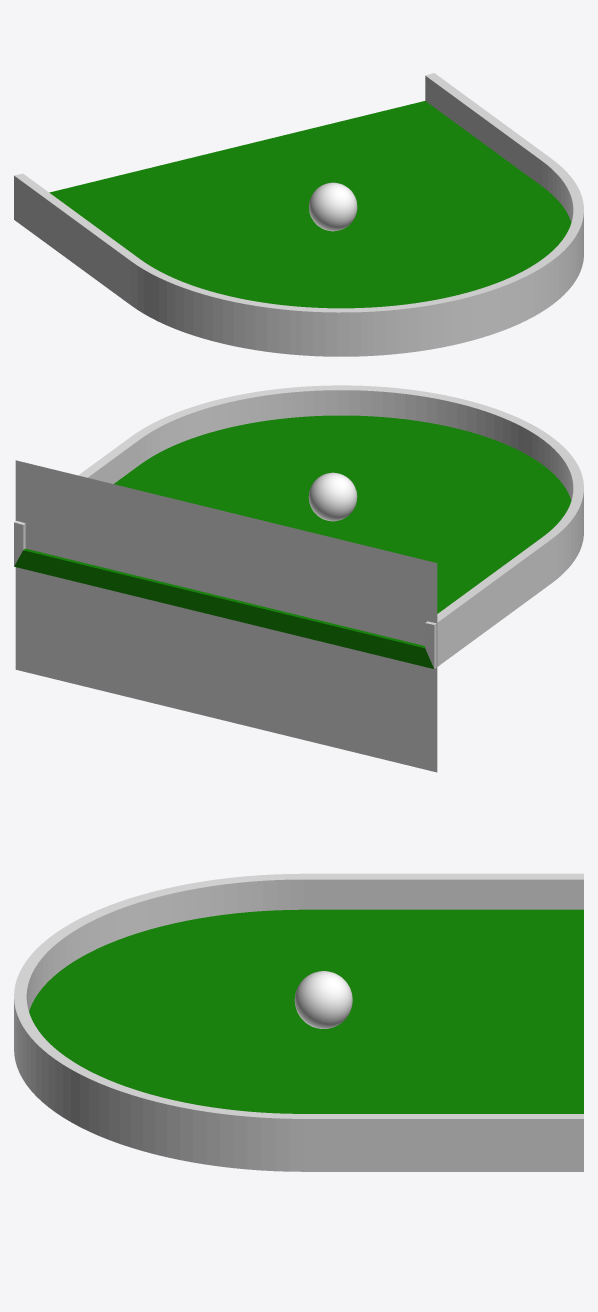
File: soft_start.glb
3 renders of one model, top to bottom at view 1: azimuth 30°, elevation 25°; view 2: azimuth 150°, elevation 25°; view 3: azimuth 270°, elevation 25°, orthographic. The views are drawn at different scales.
Visible parts, largest first — view 1: Cylinder, Sphere; view 2: obj_snap.001, Cylinder, Sphere; view 3: Cylinder, Sphere.
Boxes of the visible parts, x1=… form: Cylinder: x1=14, y1=73, x2=583, y2=356; Sphere: x1=309, y1=182, x2=357, y2=231; obj_snap.001: x1=15, y1=460, x2=437, y2=772; Cylinder: x1=14, y1=385, x2=583, y2=669; Sphere: x1=308, y1=472, x2=357, y2=521; Cylinder: x1=14, y1=873, x2=583, y2=1171; Sphere: x1=294, y1=971, x2=352, y2=1028.
Size of the model in its own units: 4.21 by 2 by 4.13.
